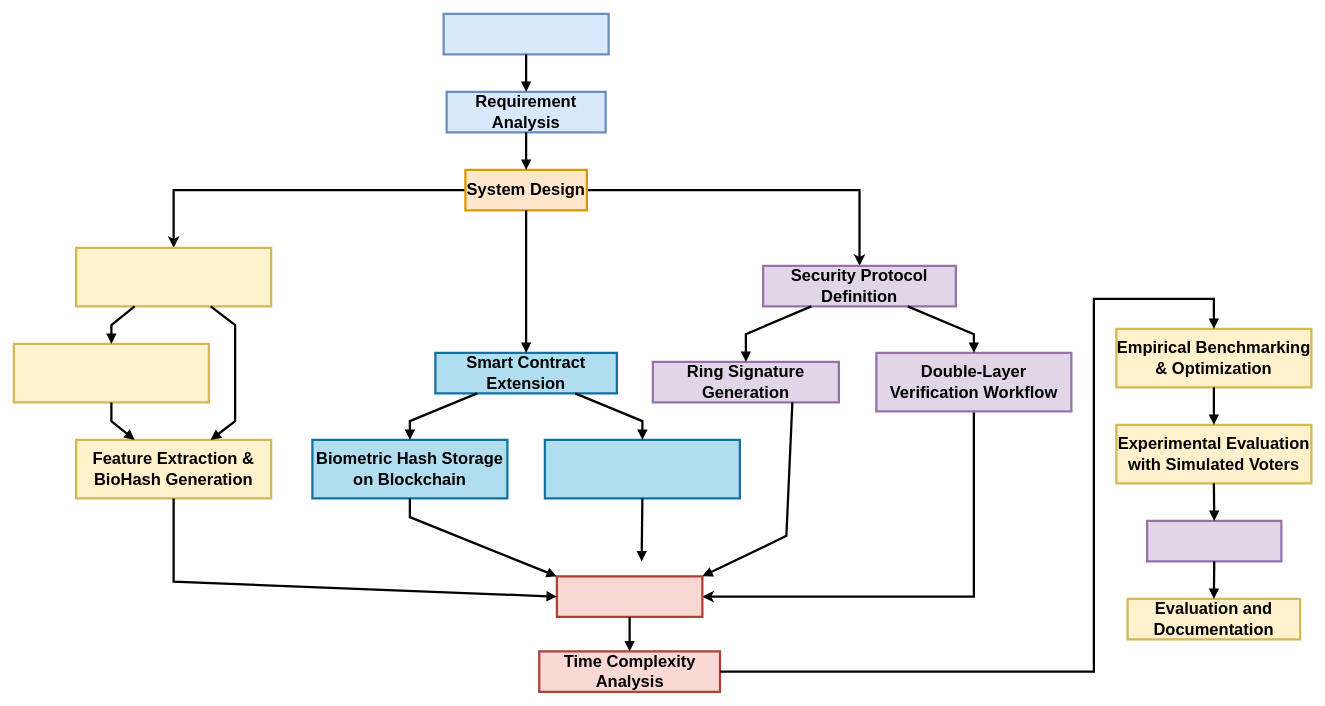
The diagram is 1325 pixels wide and 706 high, and some of its shapes have lost their labels. The centre of each missing label's shape, as x and y in pixels:
"Biometric Module Development" goes at [173,276].
"Integration Testing" goes at [629,596].
"Iris Capture with Liveness Detection" goes at [111,372].
"Multi-Factor castVote Implementation" goes at [642,468].
"Problem Identification" goes at [525,33].
"Security Analysis" goes at [1214,540].
